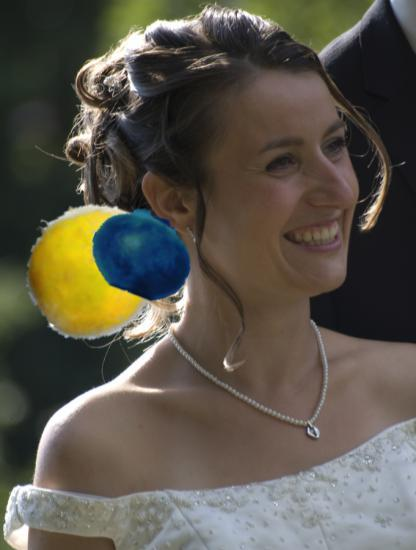Huckleberry: (91, 202, 194, 305)
Maracuja: (20, 201, 163, 344)
